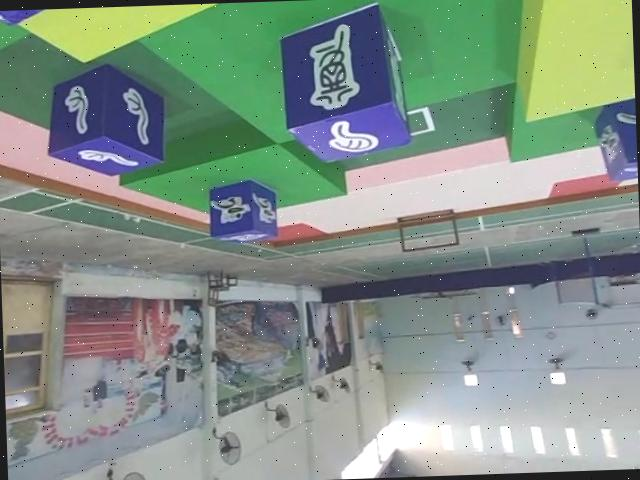R1 Blue: (209, 176, 282, 241), (594, 89, 638, 186)
R2 Fake Blue: (279, 0, 413, 162)
R2 Real Blue: (45, 60, 169, 178)
